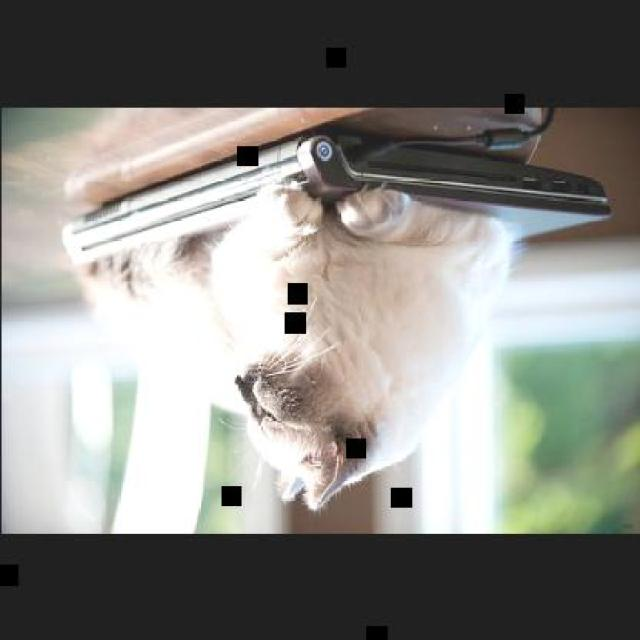unauthorized: (75, 175, 523, 512)
